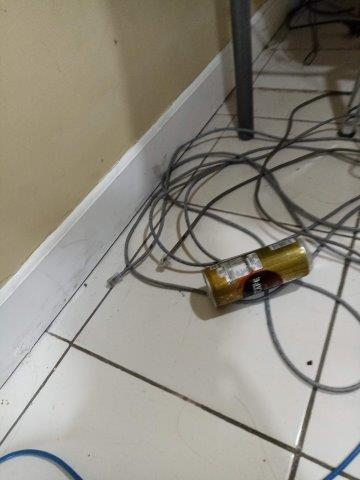kaleng: (203, 236, 314, 308)
